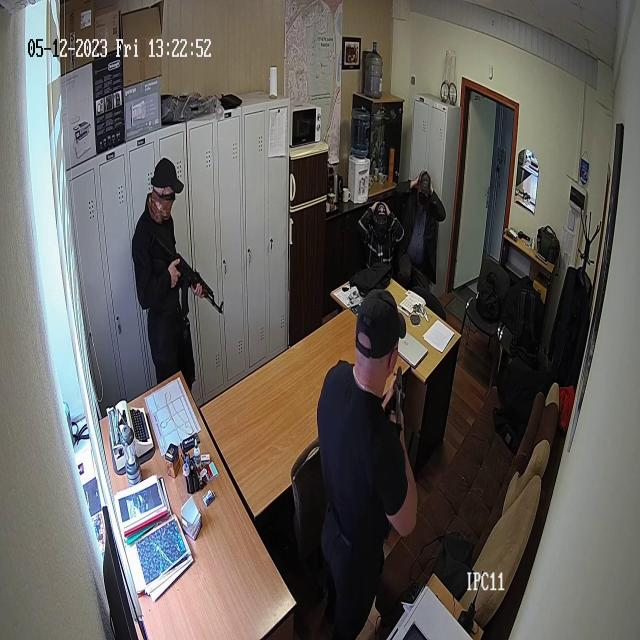gun: (321, 287, 419, 640), (129, 148, 227, 387), (156, 213, 230, 322), (404, 165, 434, 229), (386, 357, 409, 438), (369, 206, 403, 256)
